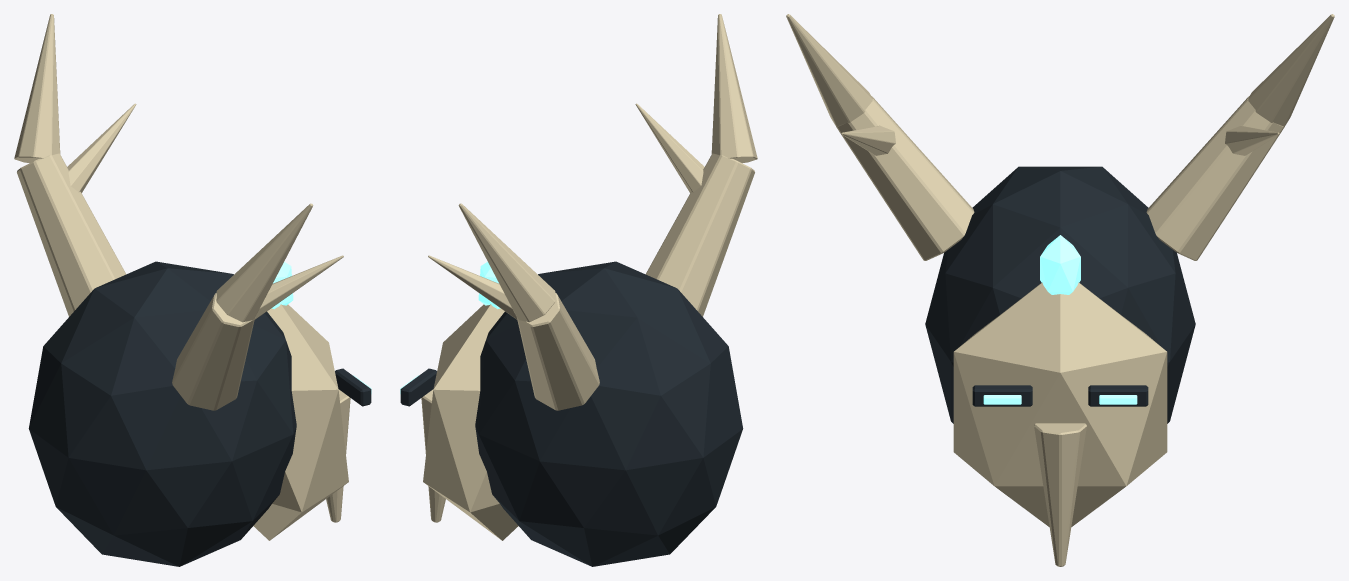
The model's file is SM_Life_Helm_Seer.fbx.
3 renders of one model, left to right at view 1: azimuth 30°, elevation 25°; view 2: azimuth 150°, elevation 25°; view 3: azimuth 270°, elevation 25°, orthographic. The views are drawn at different scales.
Parts seen in each view (by area): view 1: SM_Life_Helm_Seer; view 2: SM_Life_Helm_Seer; view 3: SM_Life_Helm_Seer.
Part boxes in pixels (x1,y1,x2,y2): SM_Life_Helm_Seer: (14,14,371,566); SM_Life_Helm_Seer: (400,14,757,566); SM_Life_Helm_Seer: (786,14,1334,566).
Bounding box in the file's own units: 33.24 × 48.16 × 50.26.
